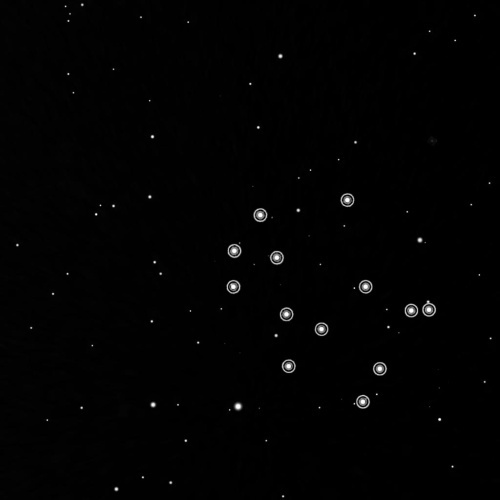gemini: (212, 188, 442, 418)
